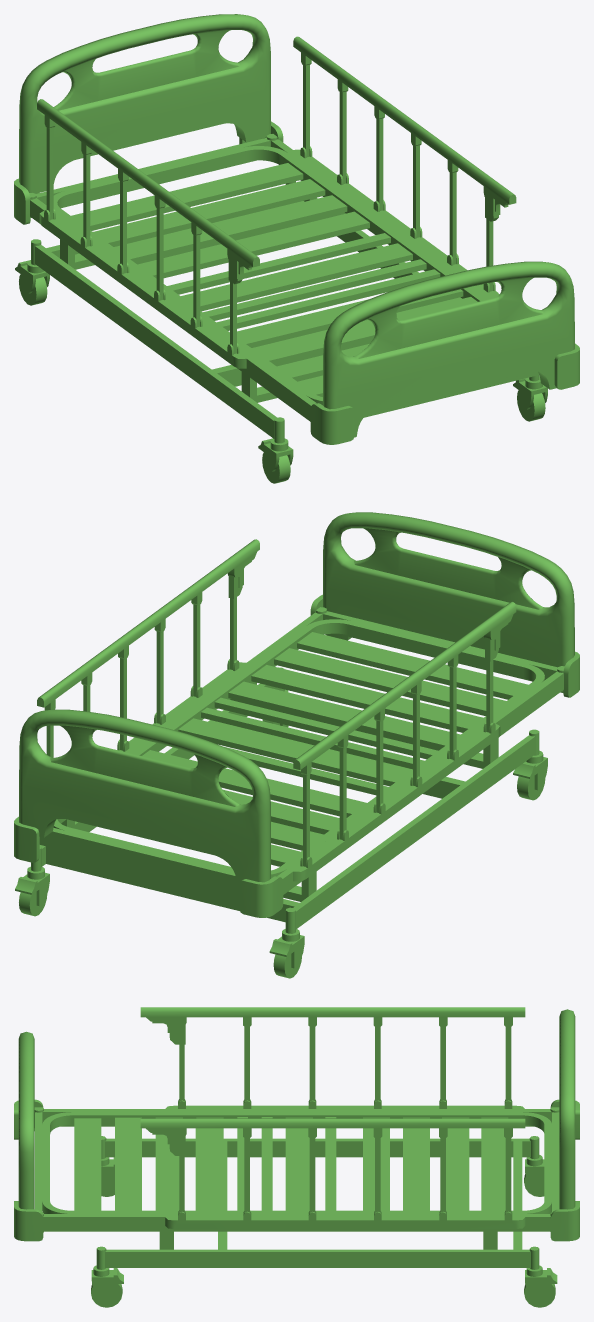
Rendered from SM_HospitalBed_02e.FBX.
3 renders of one model, top to bottom at view 1: azimuth 30°, elevation 25°; view 2: azimuth 150°, elevation 25°; view 3: azimuth 270°, elevation 25°, orthographic. The views are drawn at different scales.
Parts seen in each view (by area): view 1: SM_HospitalBed_02e_LOD0; view 2: SM_HospitalBed_02e_LOD0; view 3: SM_HospitalBed_02e_LOD0.
Boxes of the visible parts, x1,y1,x2,y2 form: SM_HospitalBed_02e_LOD0: (14,14,579,483); SM_HospitalBed_02e_LOD0: (14,512,579,978); SM_HospitalBed_02e_LOD0: (14,1007,579,1307).
Size of what is drawn, in the model's own units: 109 by 89.09 by 221.
